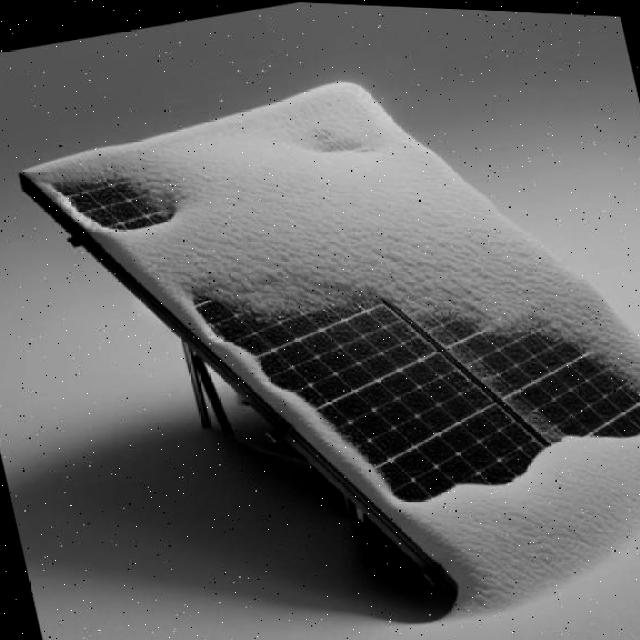Anomaly Solar Panel: (20, 0, 640, 634)
Snow: (17, 0, 640, 635)
